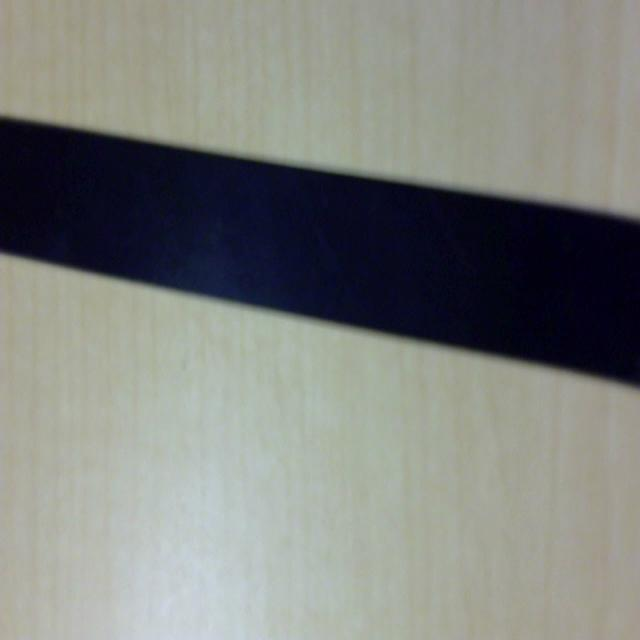tape: (0, 61, 640, 394)
